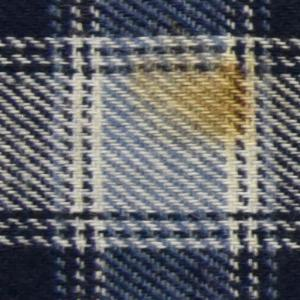Oil Stain: (125, 23, 262, 150)
